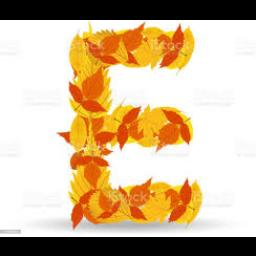e: (68, 24, 202, 222)
